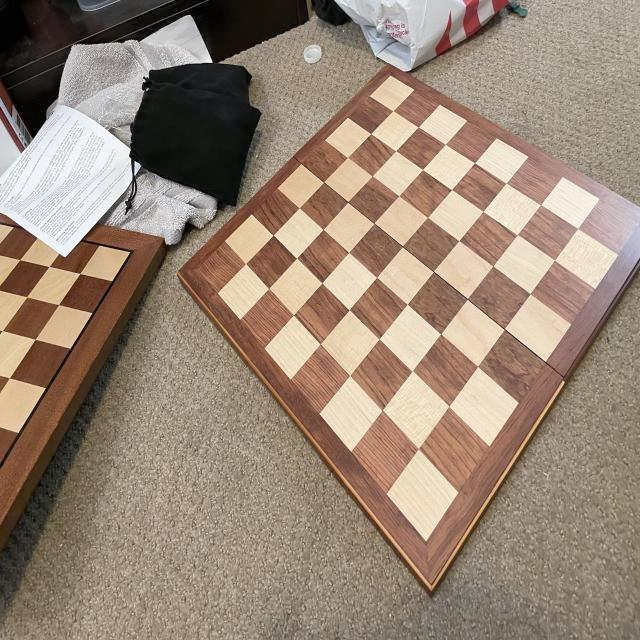chess-table-corners: (404, 518, 446, 558), (194, 257, 223, 294), (381, 72, 414, 100), (620, 200, 640, 243)
